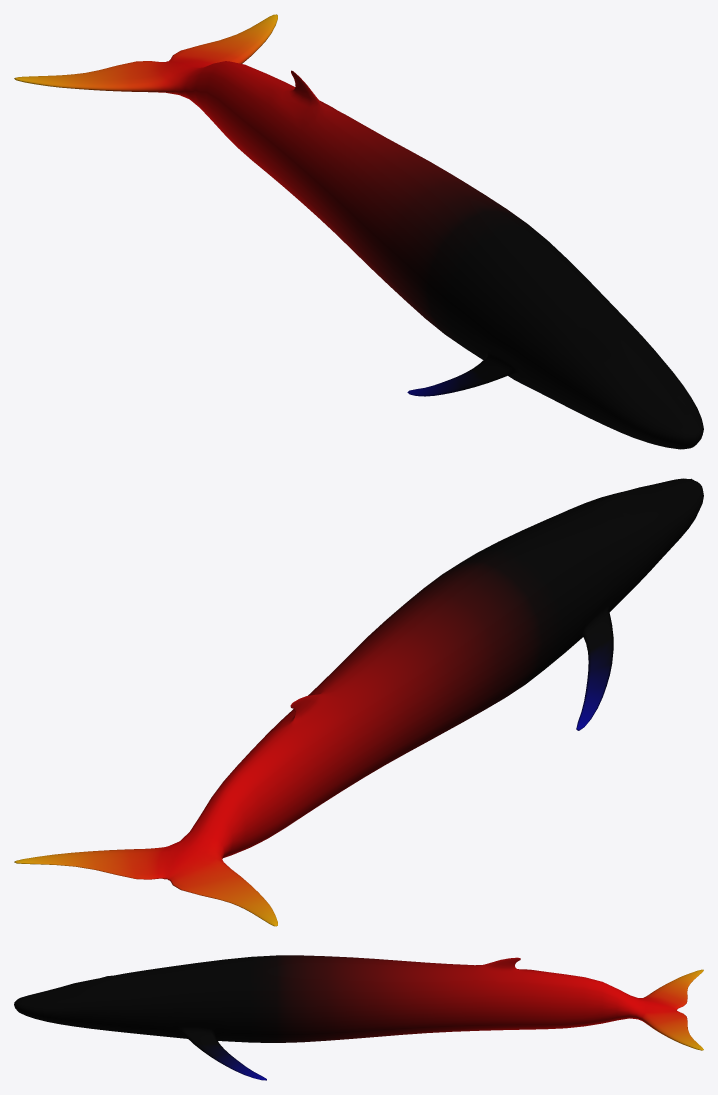
The picture shows the model from 3 angles, top to bottom: view 1: azimuth 30°, elevation 25°; view 2: azimuth 150°, elevation 25°; view 3: azimuth 270°, elevation 25°; orthographic projection. The views are drawn at different scales.
Parts seen in each view (by area): view 1: fin whale_final; view 2: fin whale_final; view 3: fin whale_final.
Part boxes in pixels (x1,y1,x2,y2): fin whale_final: [14, 14, 703, 449]; fin whale_final: [14, 478, 703, 926]; fin whale_final: [14, 955, 703, 1080].
Bounding box in the file's own units: 5.9 × 3.3 × 21.35.
